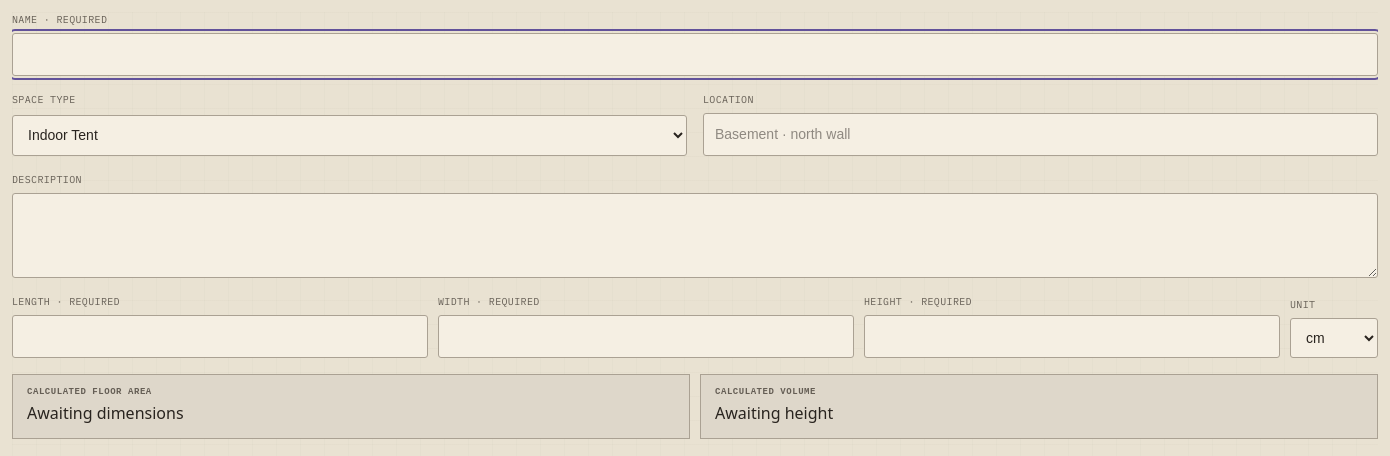
GrowSpaceDetailsForm › converts entered values when switching the shared unit
In the field labelled "Length · required": point(220, 336) left=12, top=315, right=428, bottom=358, type "80"
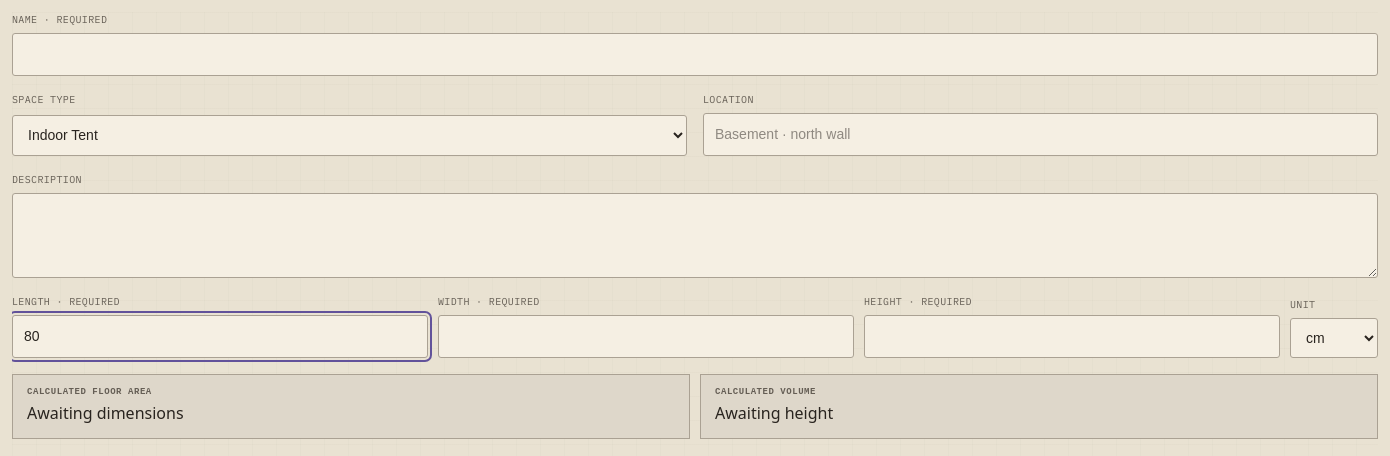
In the field labelled "Width · required": point(646, 336) left=438, top=315, right=854, bottom=358, type "80"
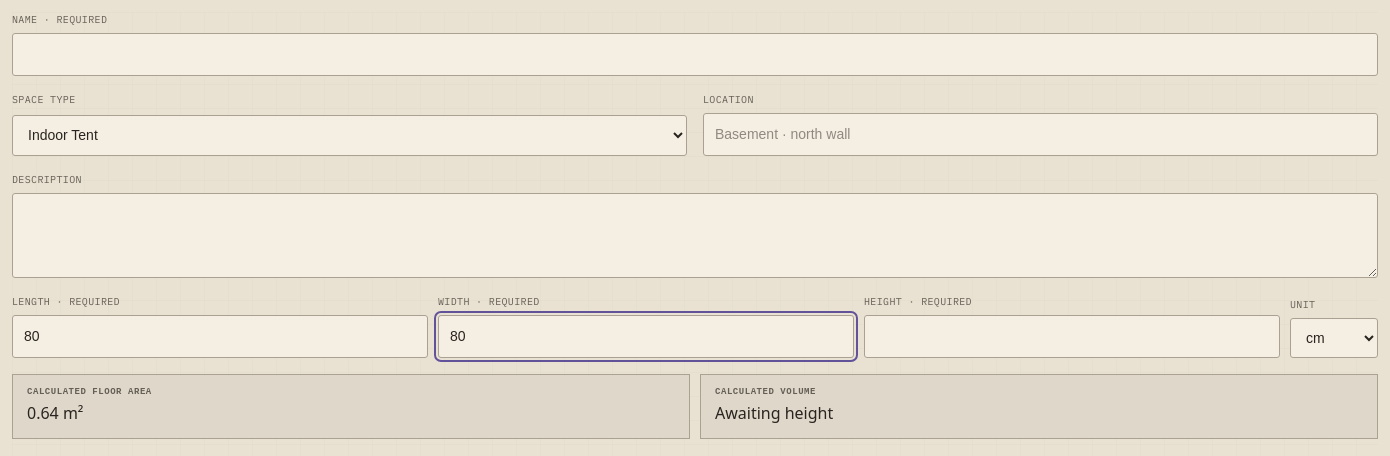
In the field labelled "Height · required": point(1072, 336) left=864, top=315, right=1280, bottom=358, type "180"
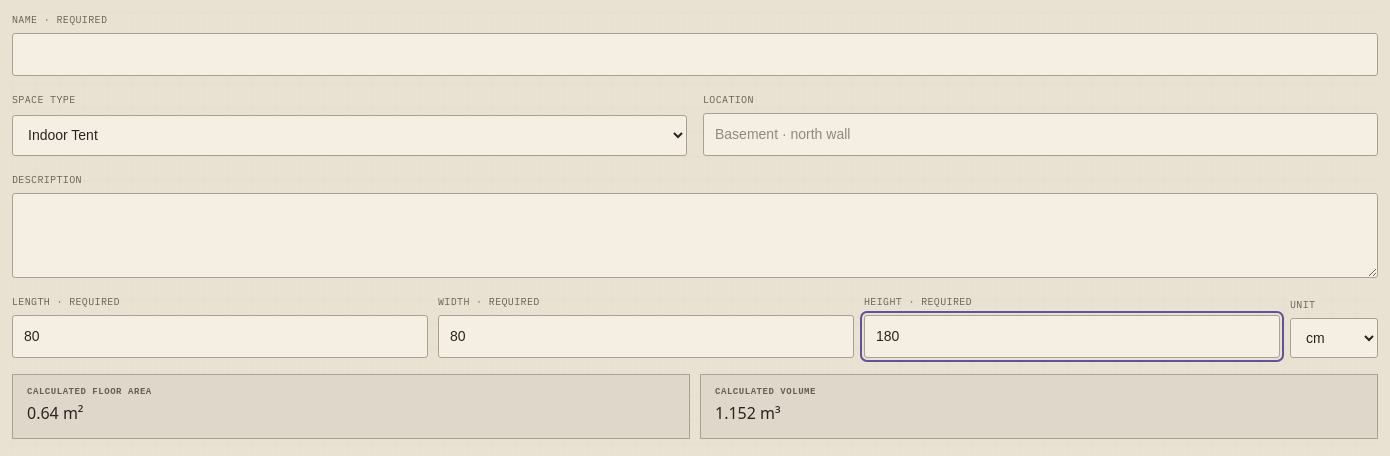
Select "in" in the dropdown named "dimension unit": point(1334, 338) left=1290, top=318, right=1378, bottom=358
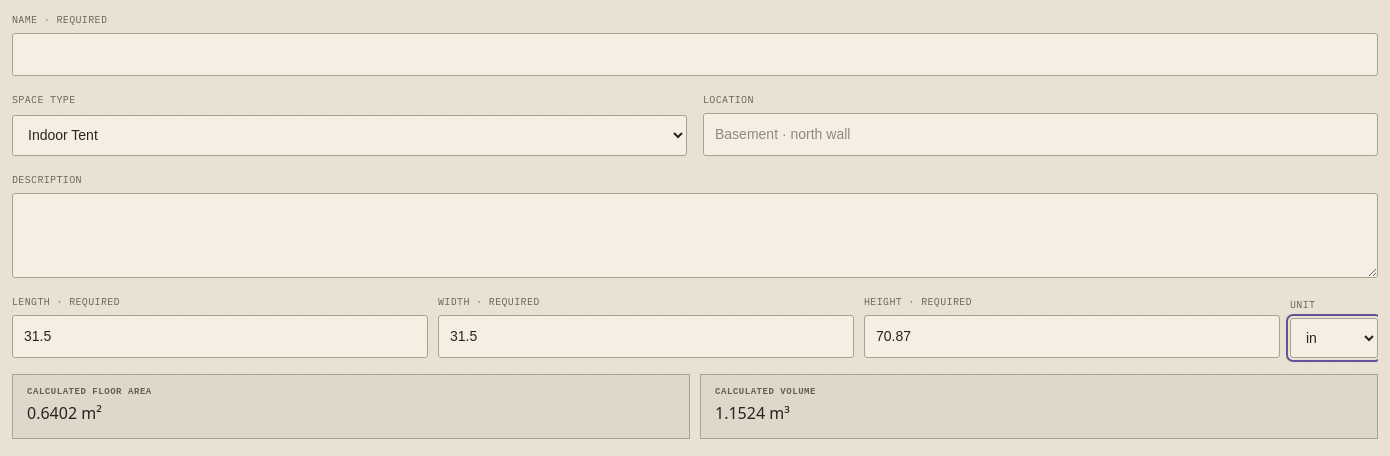
Expected: the field labelled "Length · required" holds "31.5", left=12, top=315, right=428, bottom=358
Expected: the field labelled "Width · required" holds "31.5", left=438, top=315, right=854, bottom=358
Expected: the field labelled "Height · required" holds "70.87", left=864, top=315, right=1280, bottom=358
